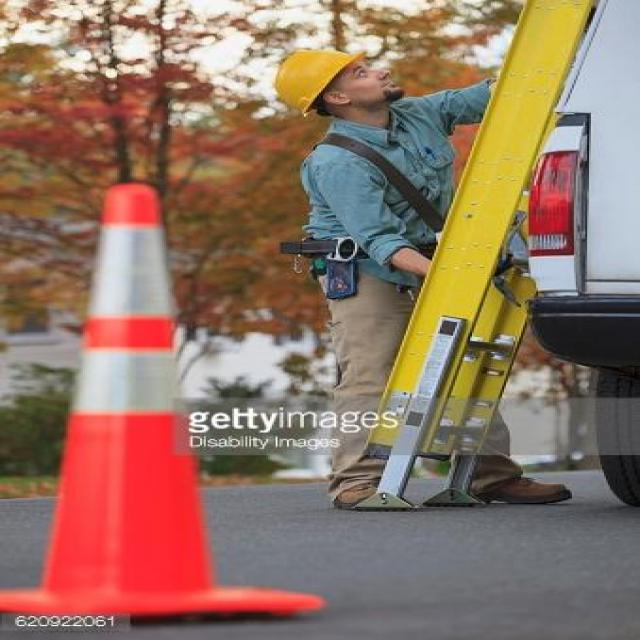Cone: (8, 183, 332, 622)
